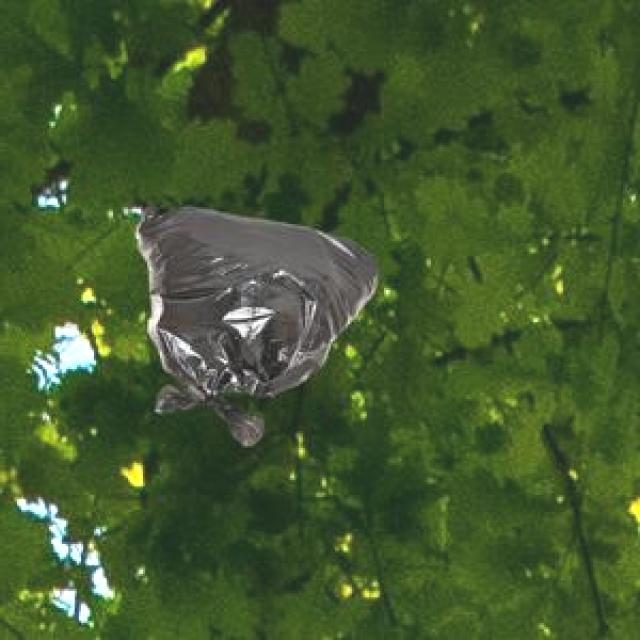Trashbag: (125, 195, 384, 450)
